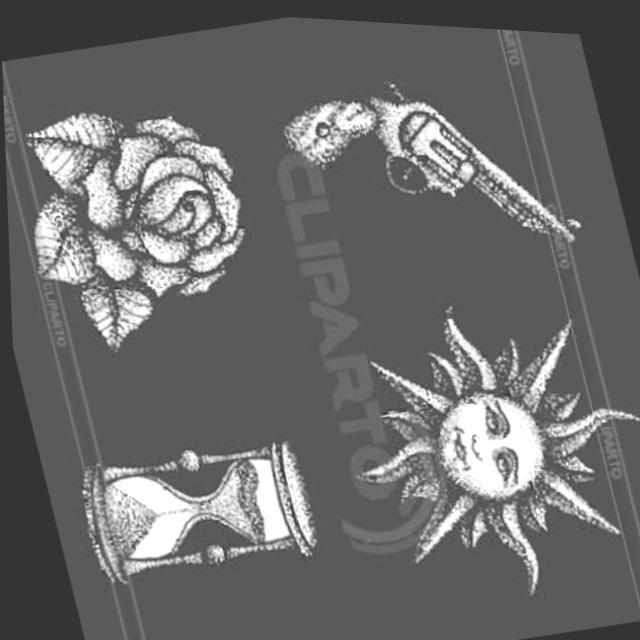gun: (254, 12, 599, 294)
